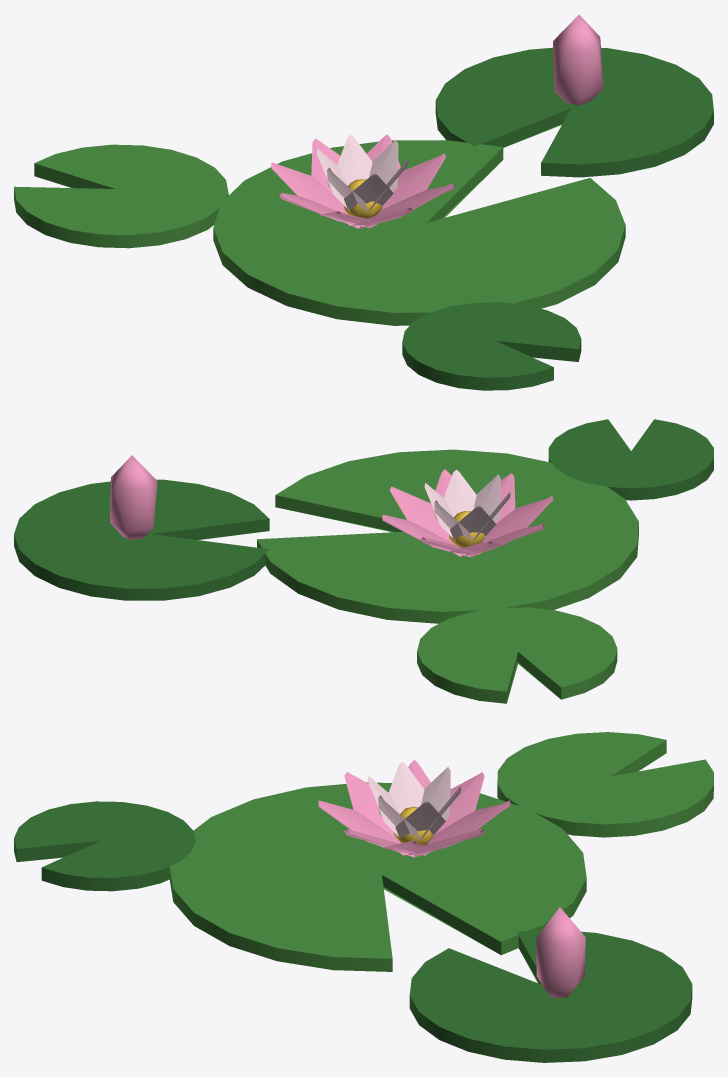
Rendered from lily-pad.glb.
3 renders of one model, top to bottom at view 1: azimuth 30°, elevation 25°; view 2: azimuth 150°, elevation 25°; view 3: azimuth 270°, elevation 25°, orthographic. The views are drawn at different scales.
Visible parts, largest first — view 1: LilyPad_Pad, LilyPad_PadDark, LilyPad_Petals, LilyPad_PetalsInner; view 2: LilyPad_Pad, LilyPad_PadDark, LilyPad_Petals, LilyPad_PetalsInner; view 3: LilyPad_Pad, LilyPad_PadDark, LilyPad_Petals, LilyPad_PetalsInner.
Boxes of the visible parts, bbox=[...] form: LilyPad_Pad: bbox=[14, 140, 625, 325]; LilyPad_PadDark: bbox=[402, 47, 713, 390]; LilyPad_Petals: bbox=[271, 14, 603, 228]; LilyPad_PetalsInner: bbox=[316, 134, 408, 212]; LilyPad_Pad: bbox=[257, 449, 638, 703]; LilyPad_PadDark: bbox=[14, 419, 713, 600]; LilyPad_Petals: bbox=[110, 455, 553, 557]; LilyPad_PetalsInner: bbox=[424, 469, 510, 541]; LilyPad_Pad: bbox=[169, 732, 713, 971]; LilyPad_PadDark: bbox=[14, 801, 692, 1062]; LilyPad_Petals: bbox=[318, 760, 585, 997]; LilyPad_PetalsInner: bbox=[367, 761, 461, 840].
Size of the model in its own units: 4.13 by 0.6113 by 3.84.
